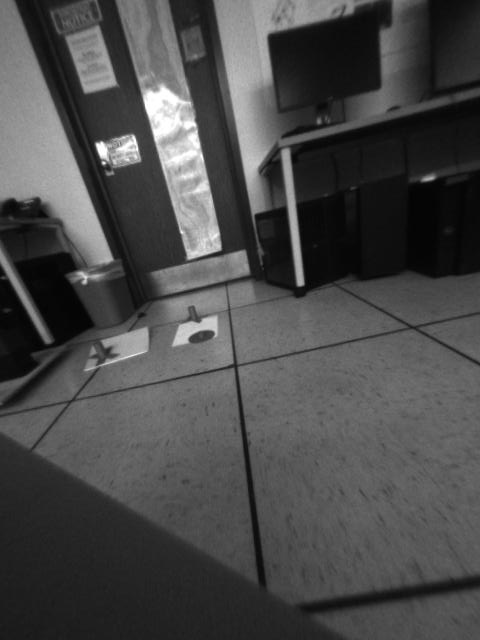X: (83, 339, 116, 364), (180, 305, 206, 323)
